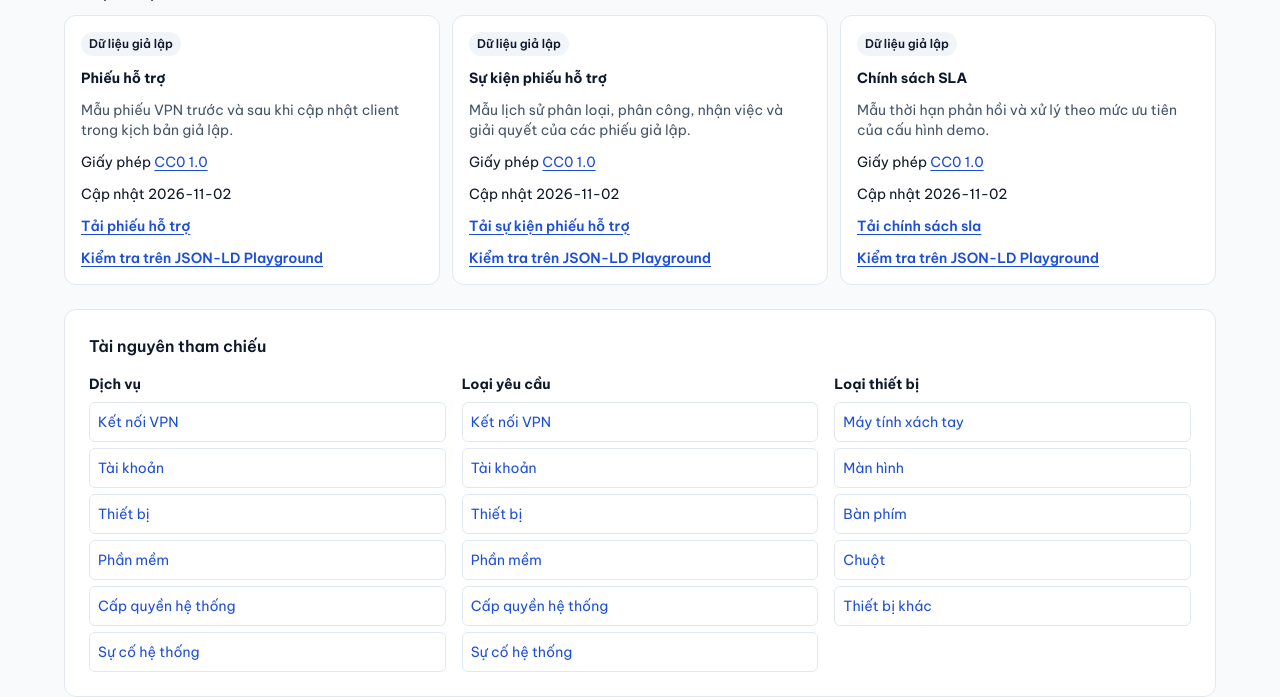
Test: Danh mục dữ liệu công khai › uses a labelled sample if the W5-04 endpoints are unavailable
(page scrolled)
What coordinates should you click on to do the following:
click the button "Màn hình"
I would click on:
 (874, 468)
Its box is [834,448,1191,488].
(page scrolled)
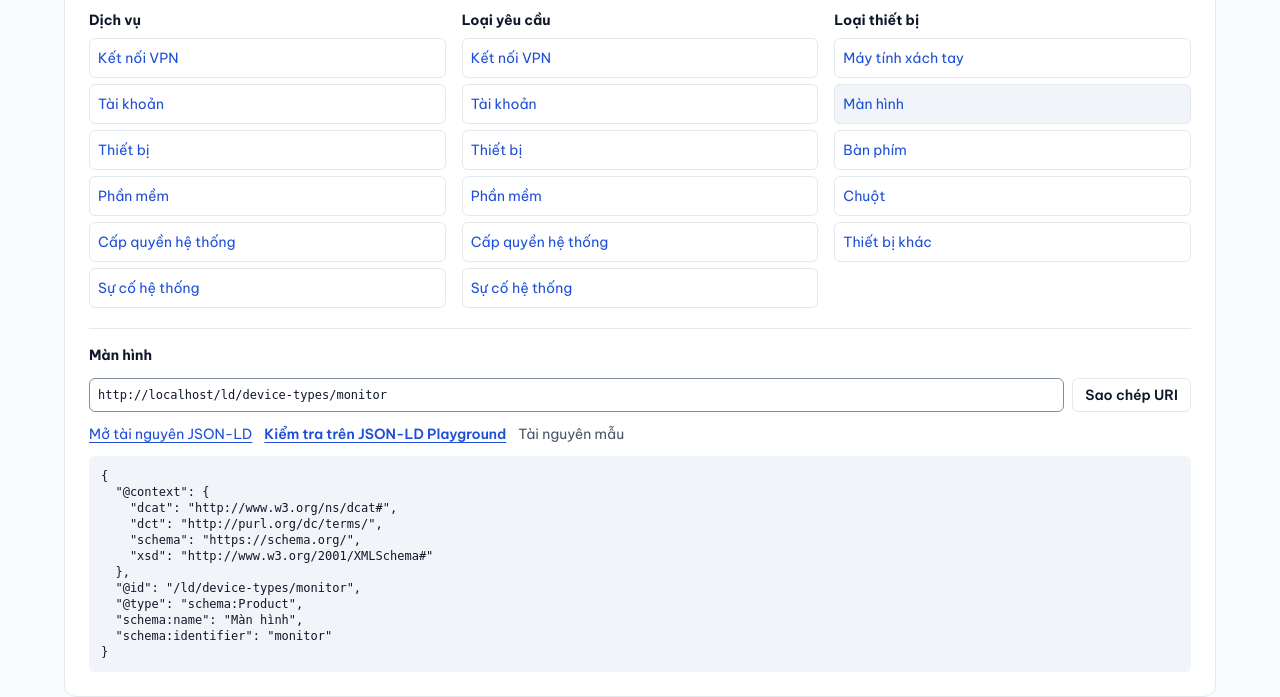
Expected: the text "Tài nguyên mẫu" is shown, [518,424,624,444]
Expected: the text "\"@type\": \"schema:Product\"" is shown, [101,469,433,659]
